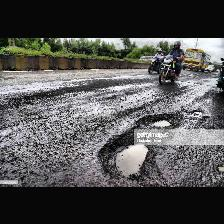pothole: (97, 132, 165, 186), (133, 112, 177, 128), (187, 109, 205, 119)
